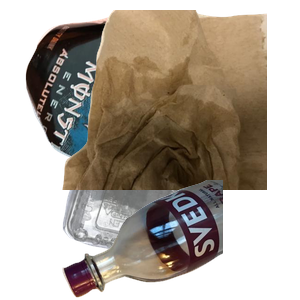glass: (60, 180, 300, 300)
metal: (23, 15, 263, 195)
plastic: (60, 136, 237, 300)
trash: (60, 10, 300, 190)
